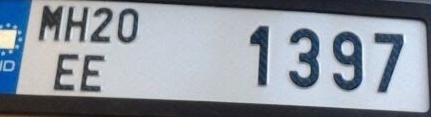character: (371, 30, 407, 93), (287, 24, 321, 89), (332, 28, 365, 92), (248, 22, 270, 87), (62, 1, 90, 45), (36, 3, 64, 43), (52, 49, 78, 92), (79, 52, 105, 91), (89, 5, 114, 44), (116, 4, 139, 44)
